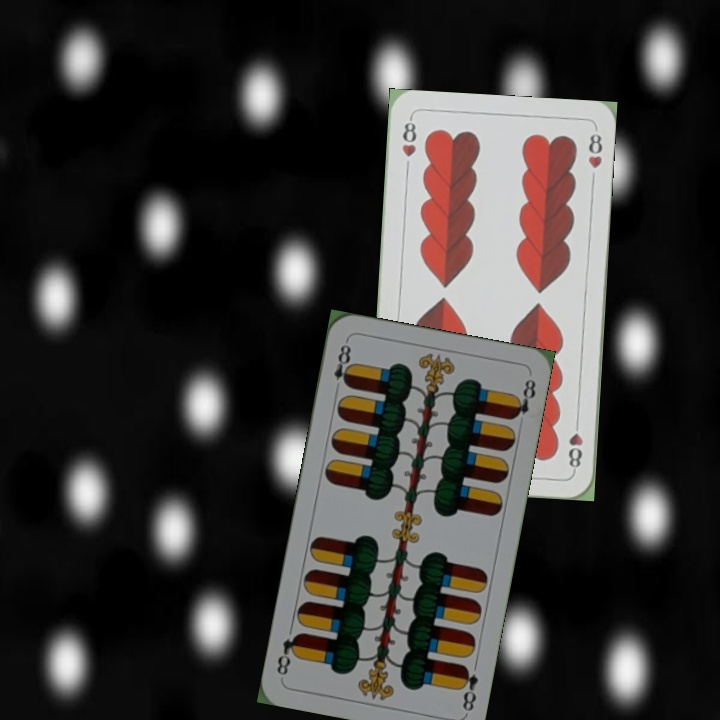E8: (455, 661, 481, 714), (329, 337, 355, 389)
H8: (564, 415, 585, 474), (398, 114, 419, 159)
